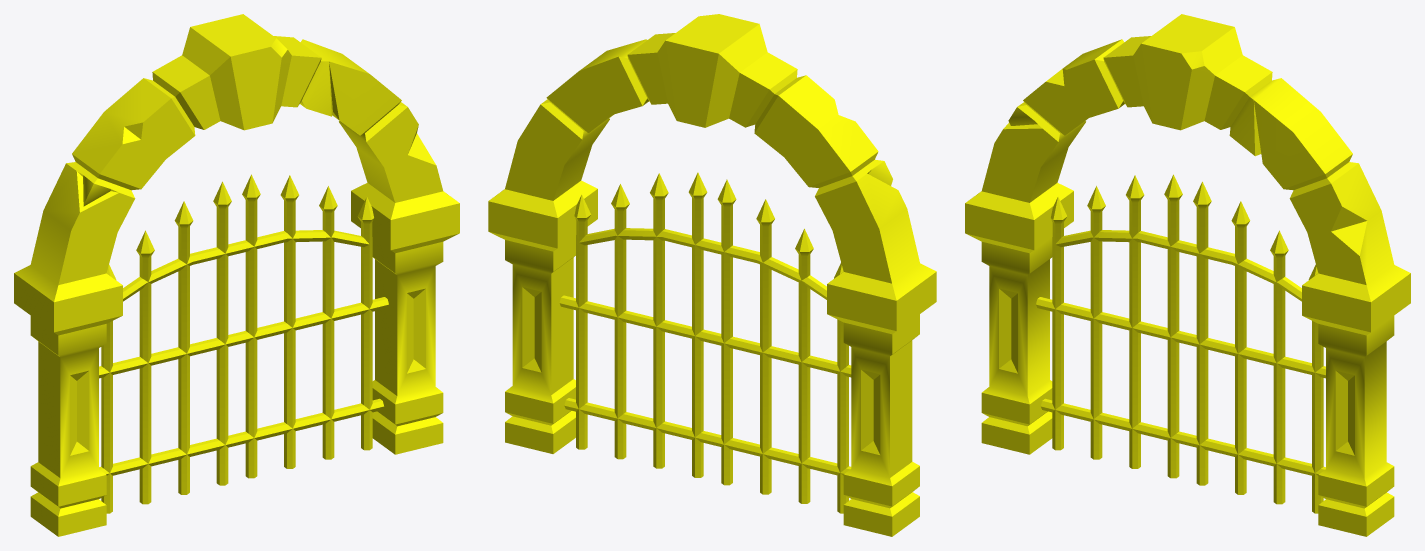
Rendered from kaykit-arch-gate.glb.
3 renders of one model, left to right at view 1: azimuth 30°, elevation 25°; view 2: azimuth 150°, elevation 25°; view 3: azimuth 330°, elevation 25°, orthographic.
Parts seen in each view (by area): view 1: arch_gate; view 2: arch_gate; view 3: arch_gate.
Part boxes in pixels (left/top/right/bottom): arch_gate: left=14, top=14, right=459, bottom=536; arch_gate: left=488, top=14, right=936, bottom=536; arch_gate: left=965, top=14, right=1410, bottom=536.
Size of the model in its own units: 4.22 by 4.41 by 0.77.
